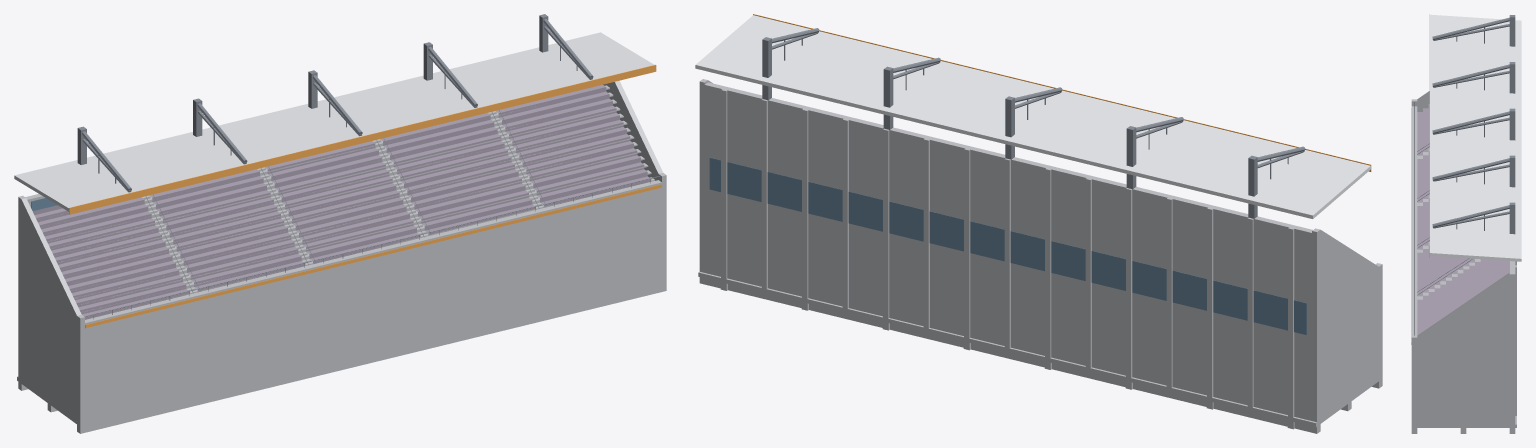
Rendered from grandstand.glb.
3 renders of one model, left to right at view 1: azimuth 30°, elevation 25°; view 2: azimuth 150°, elevation 25°; view 3: azimuth 270°, elevation 25°, orthographic. The views are drawn at different scales.
Parts seen in each view (by area): view 1: structure, crowd, roof, accent, steel; view 2: structure, roof, windows, steel, accent; view 3: roof, structure, crowd, steel, accent.
Boxes of the visible parts, box(x1,y1,x2,y2) form: structure: box(17, 80, 666, 433); crowd: box(33, 84, 651, 319); roof: box(14, 32, 654, 211); accent: box(69, 64, 661, 328); steel: box(77, 14, 660, 319); structure: box(698, 79, 1382, 433); roof: box(695, 15, 1370, 218); windows: box(709, 157, 1306, 334); steel: box(762, 28, 1305, 218); accent: box(753, 14, 1371, 171); roof: box(1430, 14, 1521, 261); structure: box(1411, 91, 1516, 433); crowd: box(1417, 104, 1509, 335); steel: box(1414, 15, 1515, 335); accent: box(1411, 14, 1429, 344).
Bounding box in the file's own units: 122 × 48.9 × 23.86.
